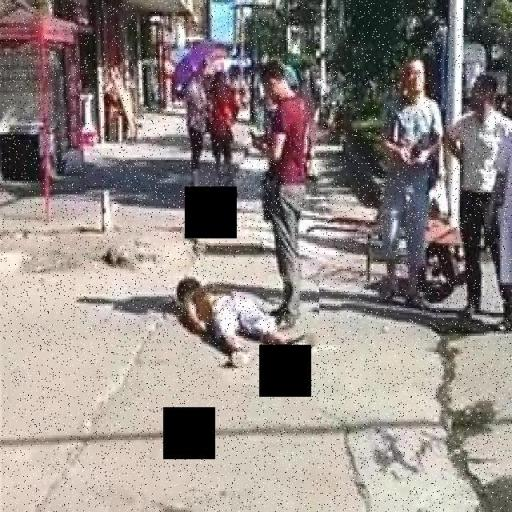Fall: (169, 262, 319, 367)
